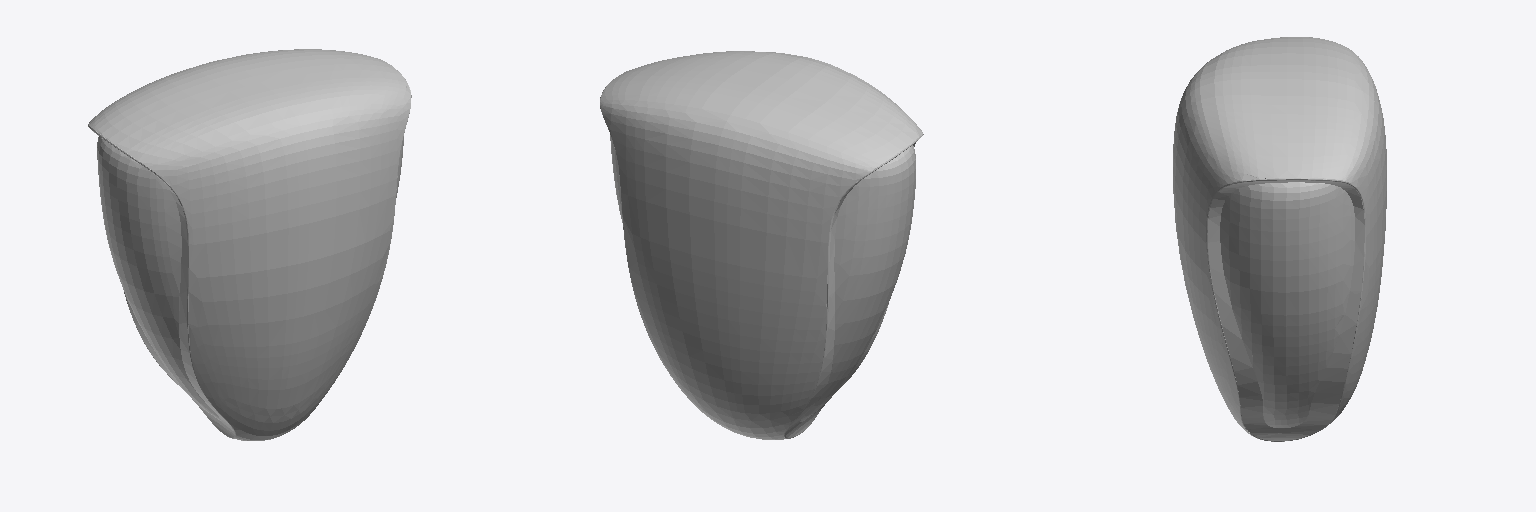
File: body.obj
3 views of the same model, side by side, from view 1: azimuth 30°, elevation 25°; view 2: azimuth 150°, elevation 25°; view 3: azimuth 270°, elevation 25° (orthographic).
Parts seen in each view (by area): view 1: MeshBody3; view 2: MeshBody3; view 3: MeshBody3.
Part boxes in pixels (bbox=[...]): MeshBody3: bbox=[88, 49, 411, 440]; MeshBody3: bbox=[600, 51, 923, 439]; MeshBody3: bbox=[1173, 37, 1386, 441].
Bounding box in the file's own units: 30.77 × 35.78 × 19.69.